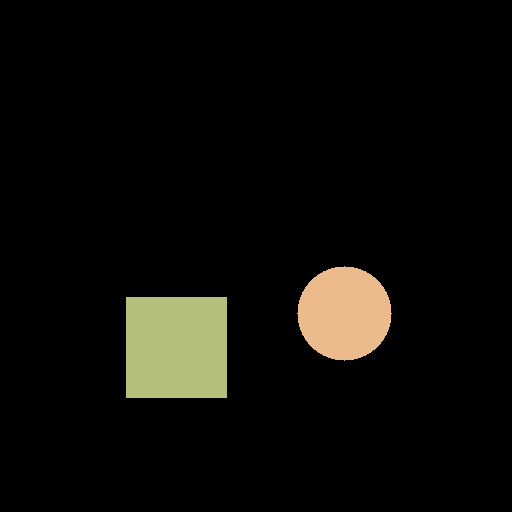circle: (297, 266, 391, 360)
square: (126, 297, 226, 397)
